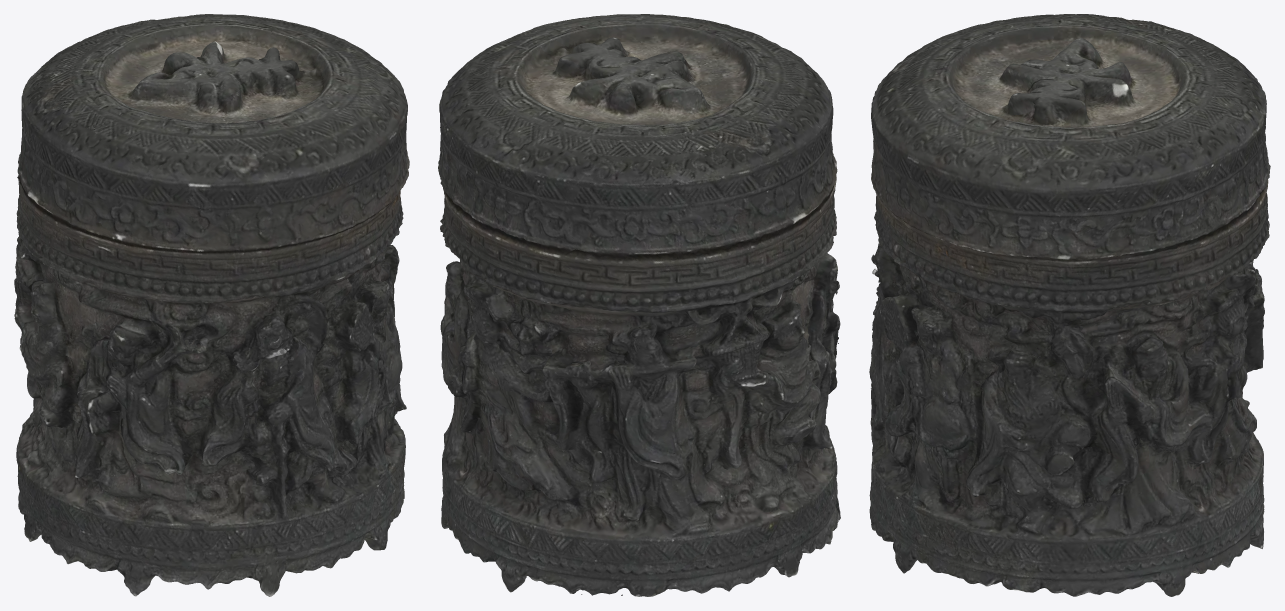
Rendered from pot-low.glb.
The picture shows the model from 3 angles, left to right: view 1: azimuth 30°, elevation 25°; view 2: azimuth 150°, elevation 25°; view 3: azimuth 270°, elevation 25°; orthographic projection. The views are drawn at different scales.
Visible parts, largest first — view 1: Model_material0_0; view 2: Model_material0_0; view 3: Model_material0_0.
Part boxes in pixels (<box>): Model_material0_0: <box>14,14,409,596</box>; Model_material0_0: <box>438,14,840,596</box>; Model_material0_0: <box>869,14,1270,596</box>.
Size of the model in its own units: 70905 by 88976 by 69555.
1 material, 1 textured.
